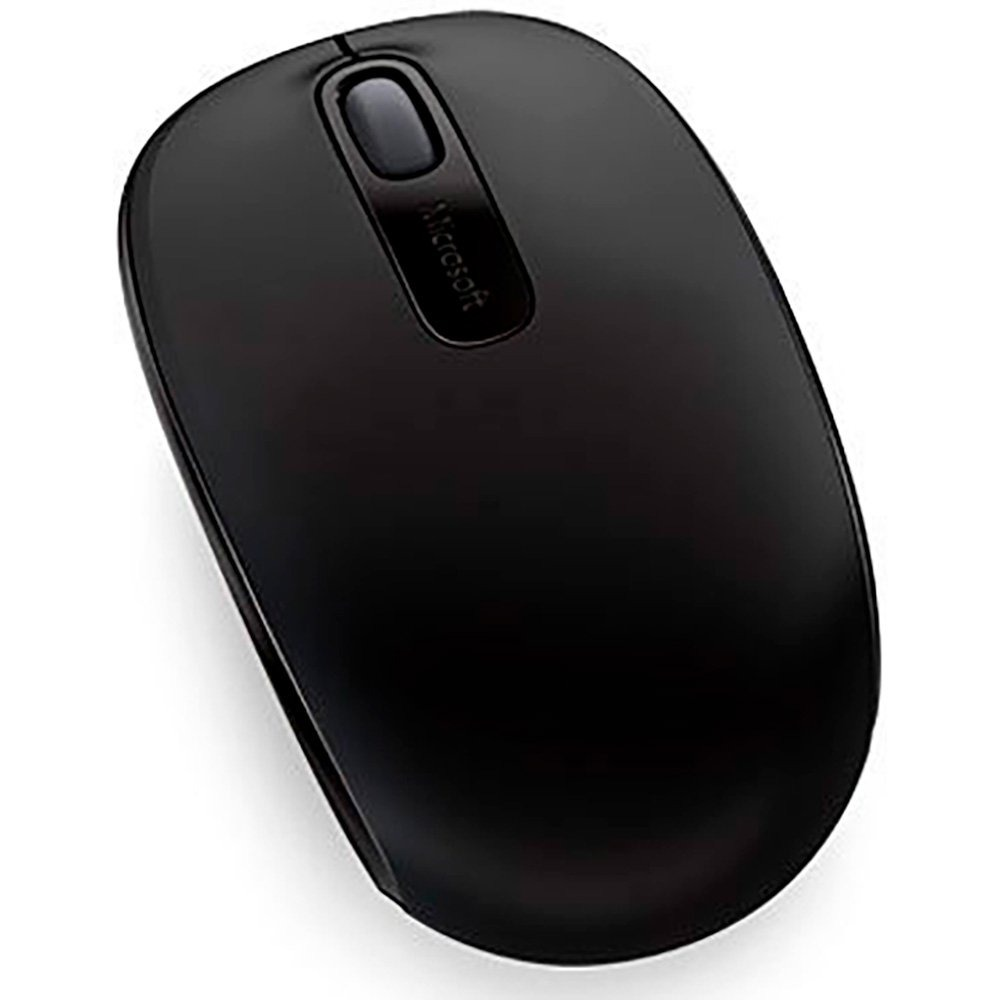mouse: (86, 9, 896, 971)
